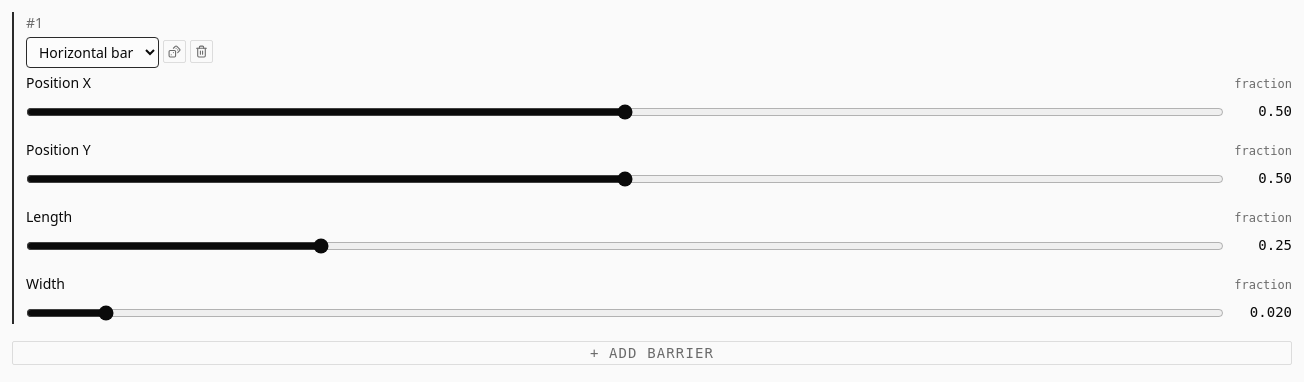
it: BarrierControl › collapse toggle hides controls and shows summary
Expected: the dropdown named "Barrier 1 kind" is shown, left=26, top=37, right=159, bottom=68
Click the button named "Toggle barrier 1" at (18, 168), box left=14, top=12, right=22, bottom=324
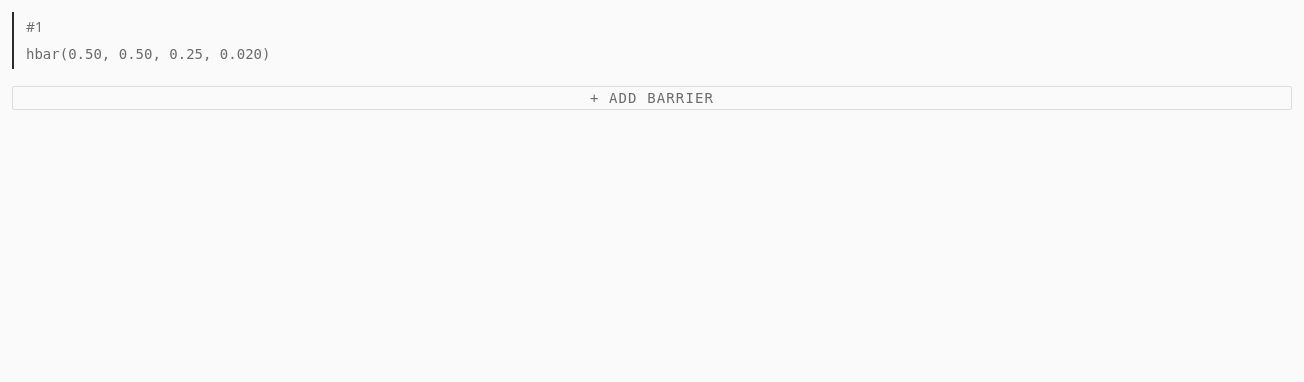
Result: the text "hbar(0.50, 0.50, 0.25, 0.020)" is shown at left=26, top=46, right=270, bottom=62
